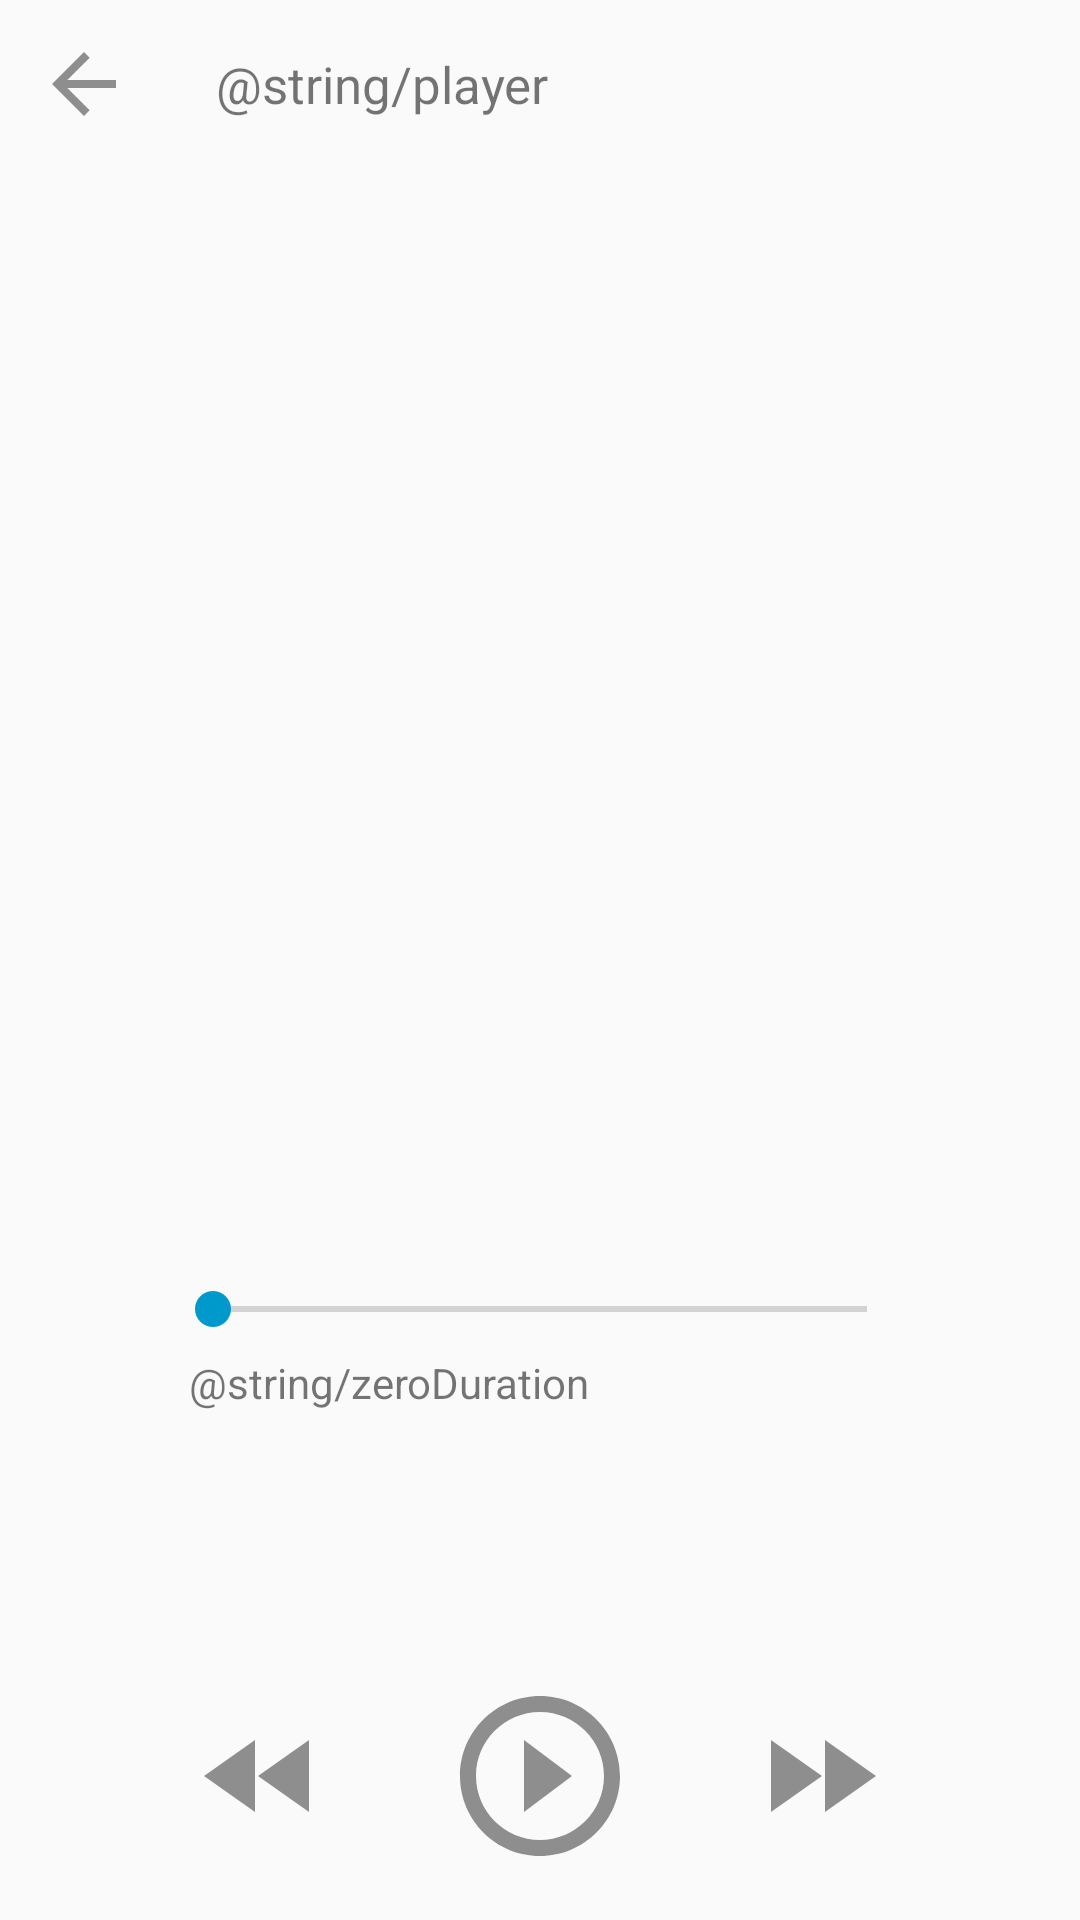

Where to tap for icons on this 1080w x 1920h app screen, as (x,y):
arrow back: (84,84)
fast forward: (823,1776)
fast rewind: (256,1776)
play circle: (540,1776)
